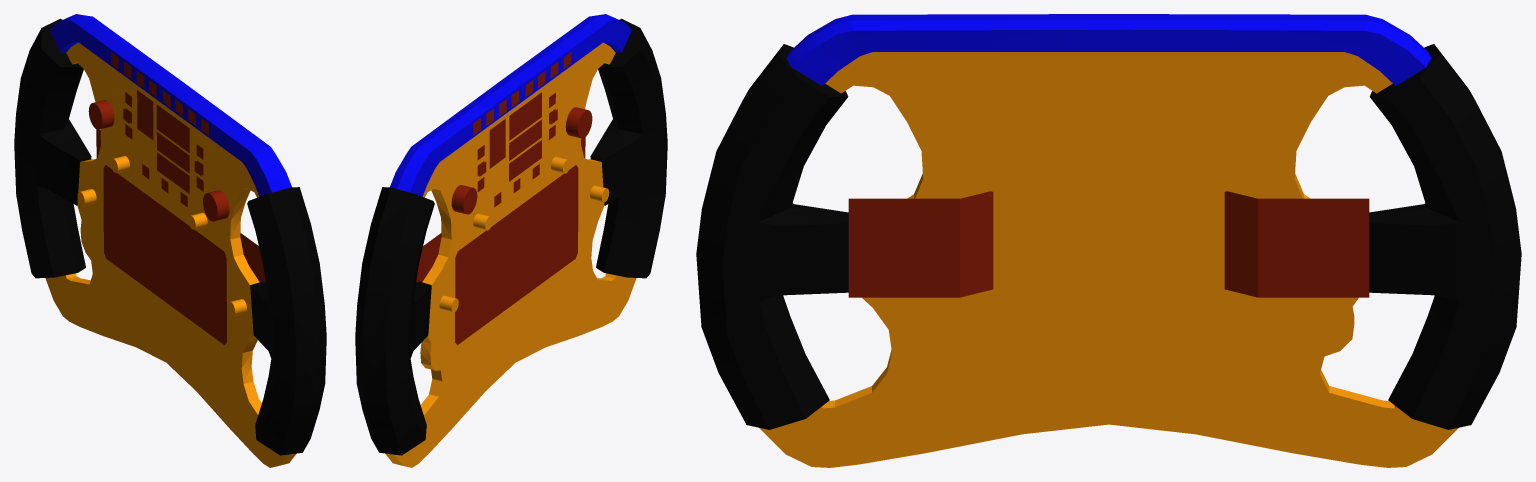
Rendered from steering_wheel.dae.
3 views of the same model, side by side, from view 1: azimuth 30°, elevation 25°; view 2: azimuth 150°, elevation 25°; view 3: azimuth 270°, elevation 25° (orthographic). The views are drawn at different scales.
Visible parts, largest first — view 1: SketchUp_016, SketchUp_022, SketchUp_017, SketchUp_163, SketchUp_009, SketchUp_166, SketchUp_007, SketchUp_161, SketchUp_013, SketchUp_176, SketchUp_168, SketchUp_169; view 2: SketchUp_016, SketchUp_017, SketchUp_022, SketchUp_163, SketchUp_009, SketchUp_166, SketchUp_007, SketchUp_161, SketchUp_013, SketchUp_176, SketchUp_168, SketchUp_175; view 3: SketchUp_016, SketchUp_017, SketchUp_022, SketchUp_009, SketchUp_043, SketchUp_196.
Part boxes in pixels (left/top/right/bottom): SketchUp_016: left=45, top=42, right=296, bottom=467; SketchUp_022: left=247, top=187, right=326, bottom=455; SketchUp_017: left=14, top=18, right=91, bottom=278; SketchUp_163: left=103, top=165, right=226, bottom=345; SketchUp_009: left=50, top=14, right=291, bottom=196; SketchUp_166: left=156, top=104, right=189, bottom=152; SketchUp_007: left=203, top=190, right=229, bottom=221; SketchUp_161: left=137, top=90, right=153, bottom=139; SketchUp_013: left=88, top=100, right=114, bottom=129; SketchUp_176: left=157, top=152, right=189, bottom=193; SketchUp_168: left=156, top=132, right=189, bottom=173; SketchUp_169: left=240, top=234, right=265, bottom=282; SketchUp_016: left=385, top=42, right=636, bottom=467; SketchUp_017: left=355, top=187, right=434, bottom=455; SketchUp_022: left=590, top=18, right=667, bottom=278; SketchUp_163: left=455, top=165, right=578, bottom=345; SketchUp_009: left=390, top=14, right=631, bottom=196; SketchUp_166: left=509, top=92, right=541, bottom=140; SketchUp_007: left=565, top=107, right=592, bottom=138; SketchUp_161: left=489, top=119, right=505, bottom=168; SketchUp_013: left=451, top=185, right=477, bottom=214; SketchUp_176: left=509, top=140, right=541, bottom=181; SketchUp_168: left=509, top=119, right=541, bottom=160; SketchUp_175: left=416, top=234, right=441, bottom=282; SketchUp_016: left=759, top=52, right=1458, bottom=467; SketchUp_017: left=1369, top=44, right=1521, bottom=429; SketchUp_022: left=696, top=44, right=848, bottom=429; SketchUp_009: left=786, top=14, right=1431, bottom=85; SketchUp_043: left=848, top=191, right=993, bottom=297; SketchUp_196: left=1224, top=191, right=1369, bottom=297.
Size of the model in its own units: 0.00634 by 0.0664 by 0.0395.
